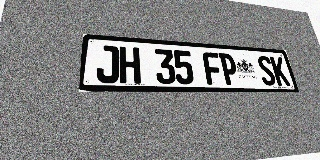3: (154, 49, 176, 84)
5: (173, 50, 195, 84)
F: (202, 52, 224, 85)
H: (119, 46, 141, 84)
J: (96, 45, 119, 83)
K: (269, 56, 291, 86)
P: (218, 53, 240, 85)
S: (256, 55, 277, 86)
